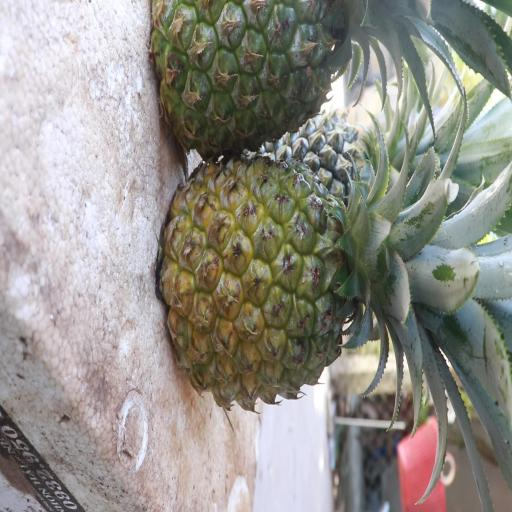------------------------------: (151, 0, 404, 150)
Pineapple - v8 v1: (161, 165, 411, 396)
